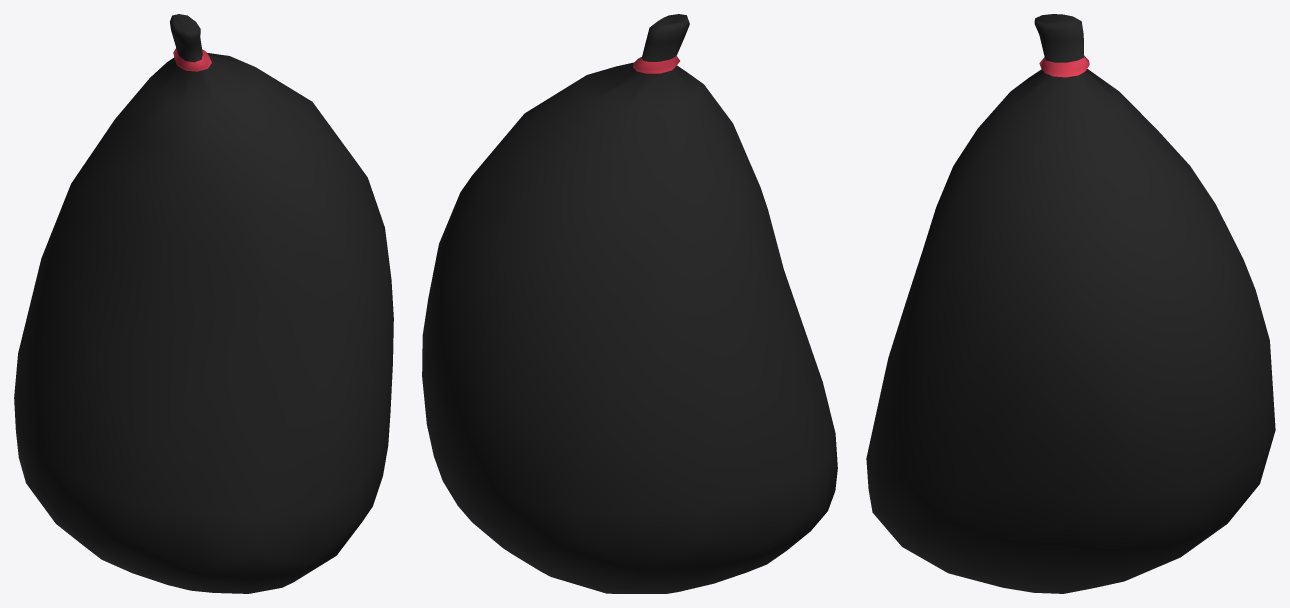
Rendered from bag_01.fbx.
3 views of the same model, side by side, from view 1: azimuth 30°, elevation 25°; view 2: azimuth 150°, elevation 25°; view 3: azimuth 270°, elevation 25° (orthographic). The views are drawn at different scales.
Parts seen in each view (by area): view 1: Icosphere.002; view 2: Icosphere.002; view 3: Icosphere.002.
Part boxes in pixels (x1=…): Icosphere.002: x1=14, y1=14, x2=393, y2=593; Icosphere.002: x1=422, y1=14, x2=837, y2=593; Icosphere.002: x1=866, y1=14, x2=1275, y2=593.
Size of the model in its own units: 76.46 by 118 by 79.6.
Materials: 2 (2 with a texture image).
